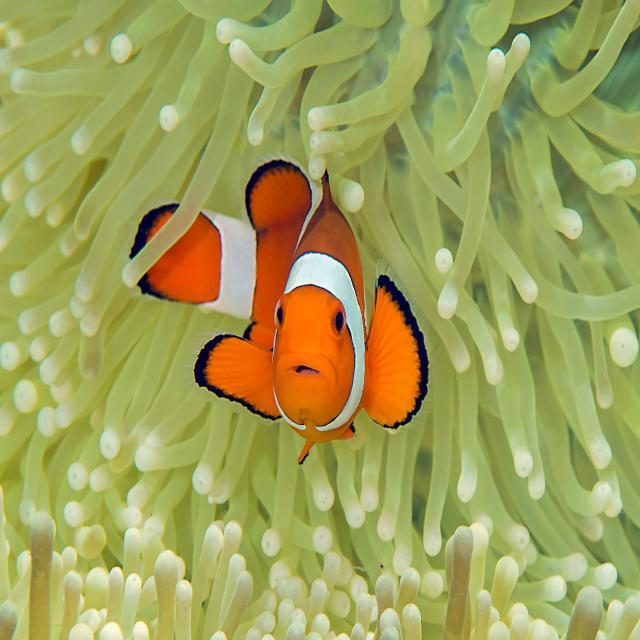ClownFish: (130, 156, 430, 474)
